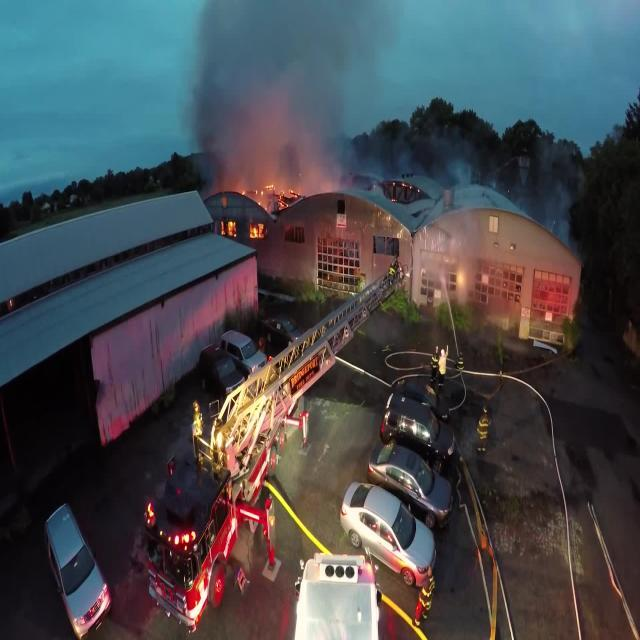Fire: (219, 176, 309, 250)
Smoke: (195, 0, 346, 174), (310, 137, 474, 197)
